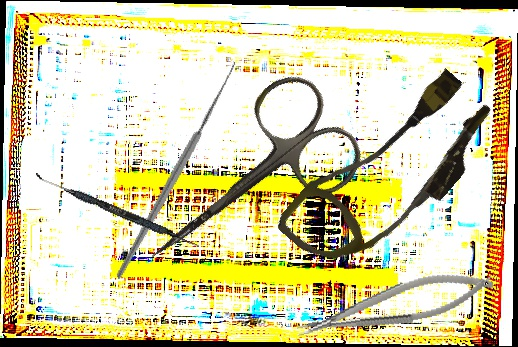Cannula: (272, 49, 509, 298)
Hook Surgical: (47, 51, 300, 280)
Iris Scissors: (112, 63, 375, 306)
Needle Holder: (291, 262, 498, 347)
Spatula Surgical: (32, 173, 202, 249)
